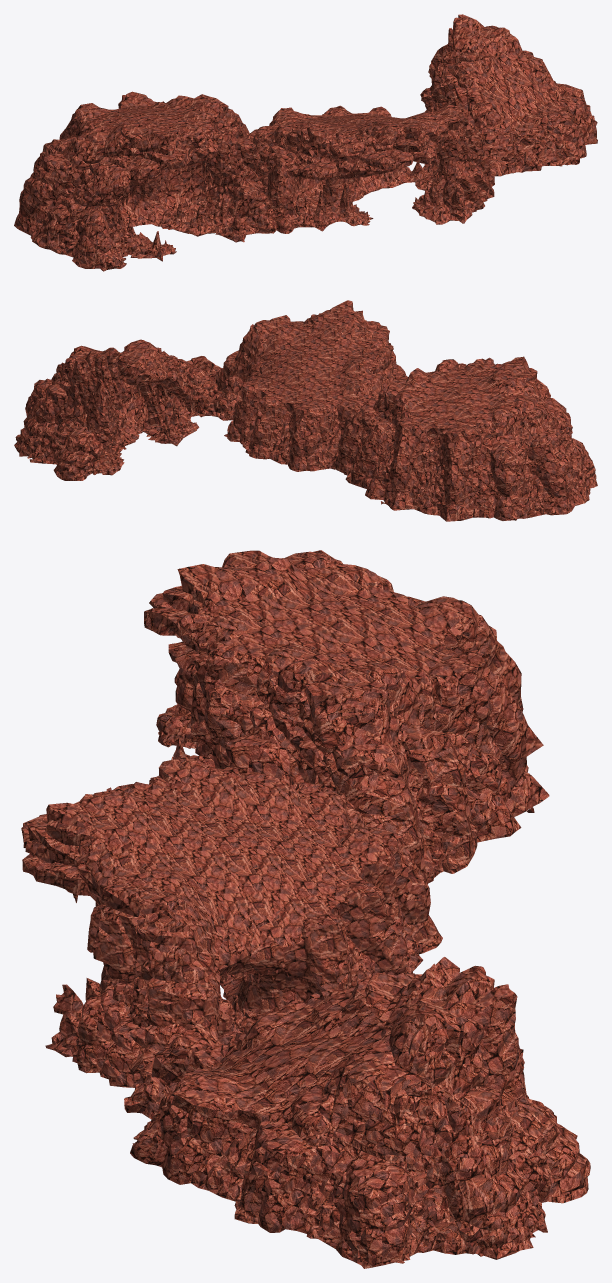
The model's file is Brinebreak Isle Stalagmite Rocks.fbx.
The picture shows the model from 3 angles, top to bottom: view 1: azimuth 30°, elevation 25°; view 2: azimuth 150°, elevation 25°; view 3: azimuth 270°, elevation 25°; orthographic projection. The views are drawn at different scales.
Parts seen in each view (by area): view 1: geometry_0.036, geometry_0, geometry_0.004; view 2: geometry_0.036, geometry_0, geometry_0.004; view 3: geometry_0.004, geometry_0, geometry_0.036.
Part boxes in pixels (x1,y1,x2,y2): geometry_0.036: (14, 91, 278, 271); geometry_0: (243, 104, 494, 233); geometry_0.004: (420, 14, 597, 176); geometry_0.036: (335, 356, 597, 521); geometry_0: (212, 300, 406, 471); geometry_0.004: (14, 339, 230, 480); geometry_0.004: (124, 957, 590, 1268); geometry_0: (21, 759, 442, 1087); geometry_0.036: (144, 550, 549, 884).
Bounding box in the file's own units: 3833 × 917 × 1733.
1 material, 1 textured.
